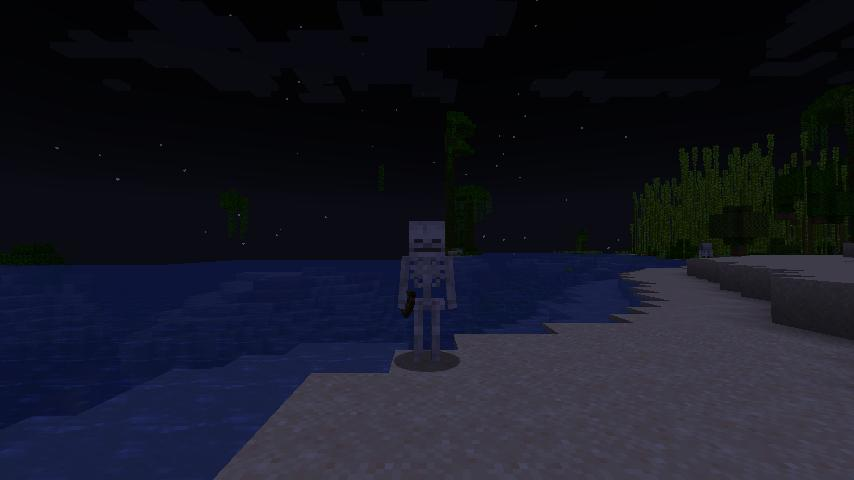skeleton: (395, 217, 461, 366)
